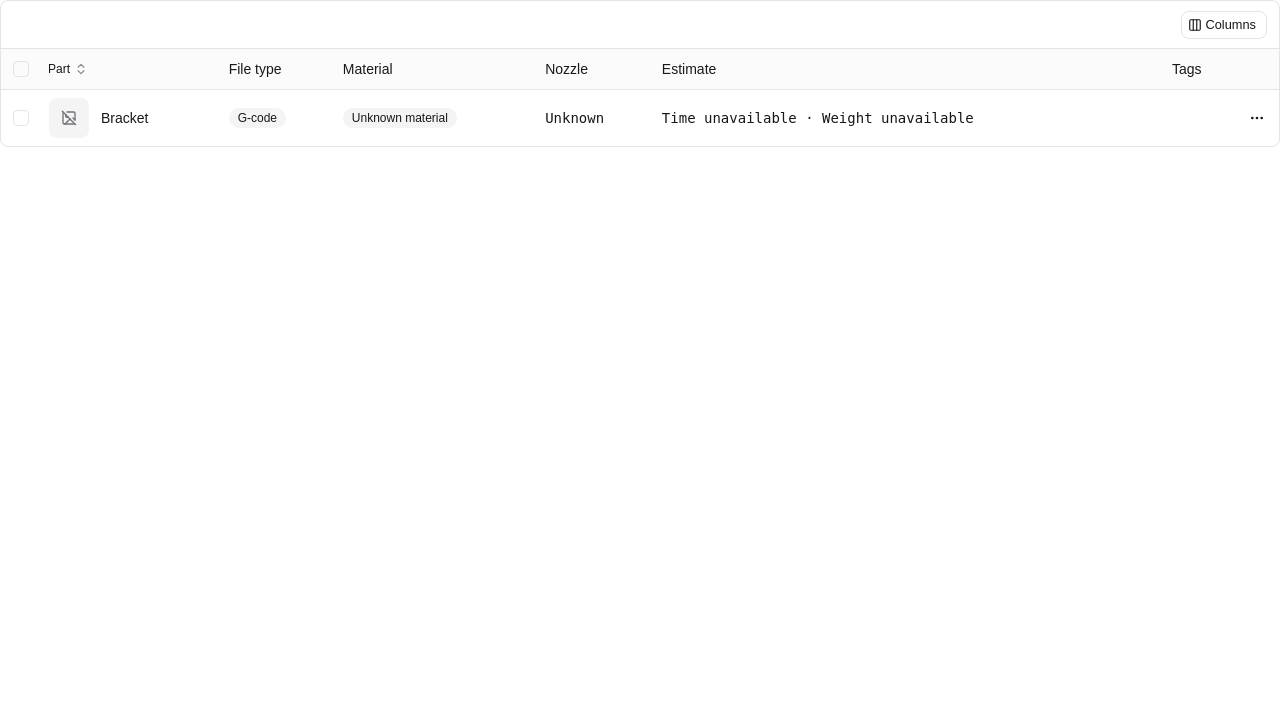
Test case: PartsTable queue action › shows server errors and preserves the quantity for retry
Click the button named "Actions for Bracket": {"x": 1257, "y": 118} [1243,104,1271,132]
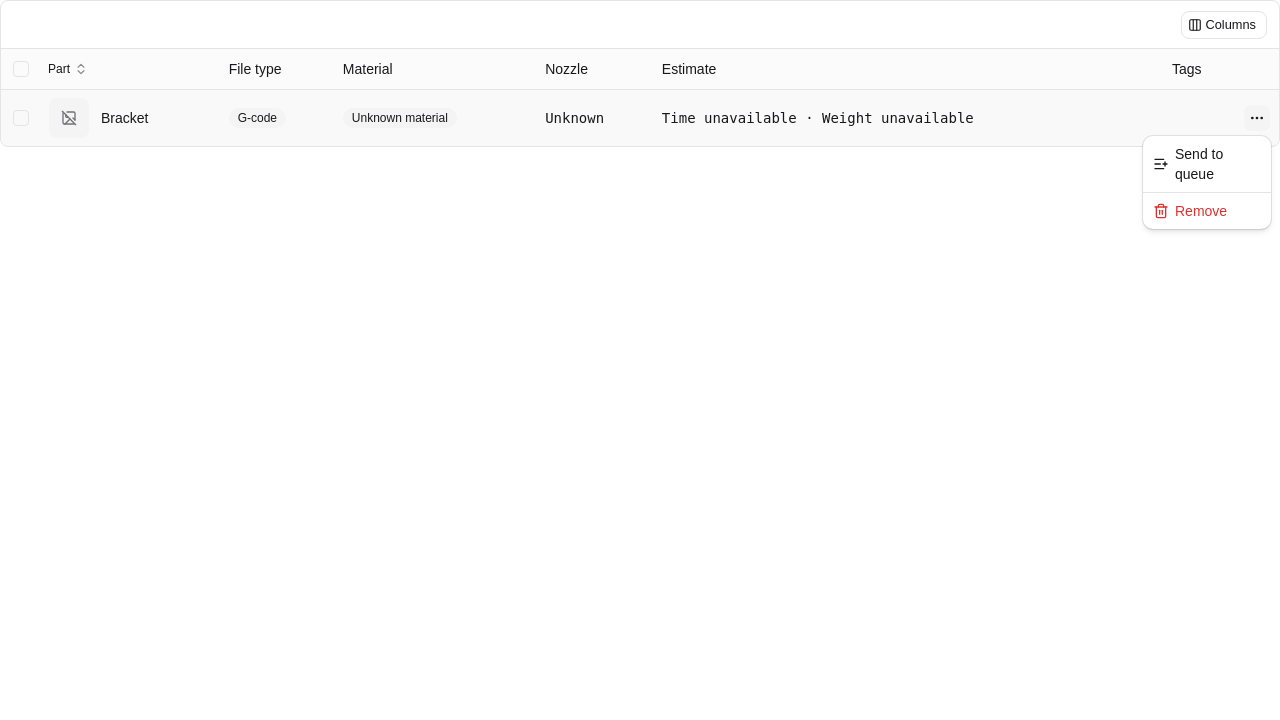
Click the menu item "Send to queue": {"x": 1188, "y": 164} [1153,146,1223,182]
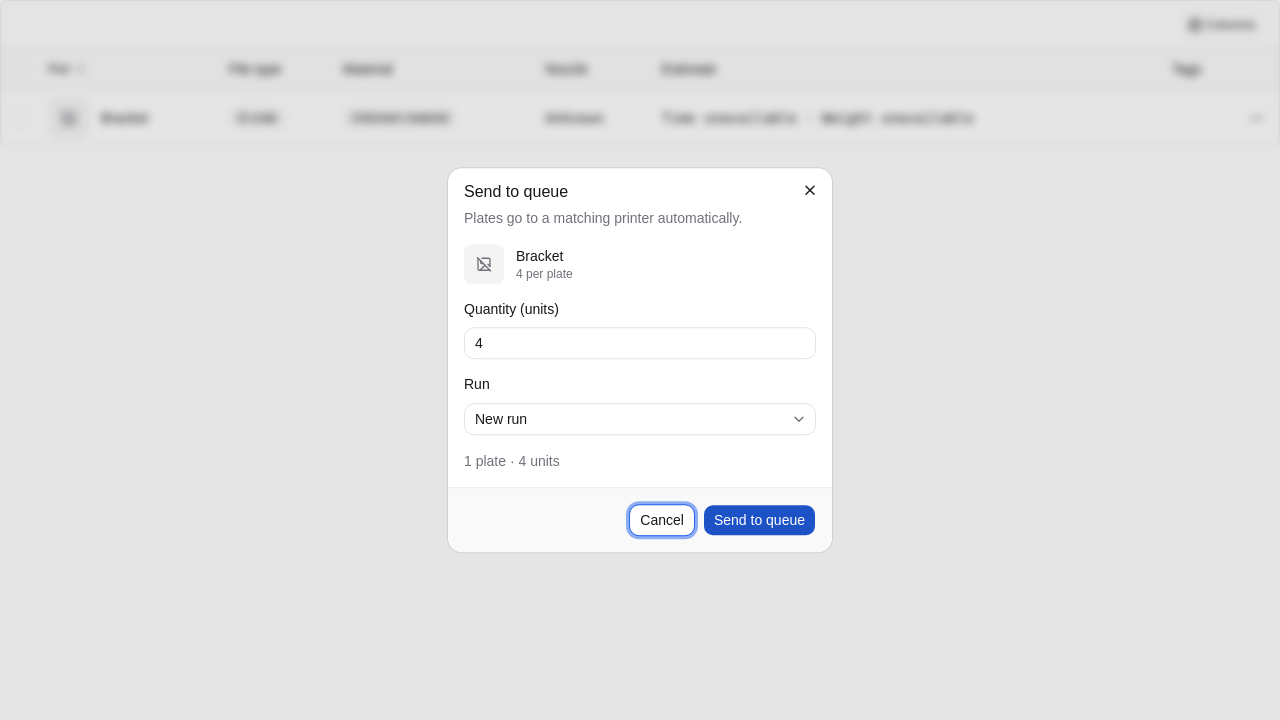
Replace the text in the number field labelled "Quantity (units)" with "9": {"x": 640, "y": 344} [464,328,816,360]
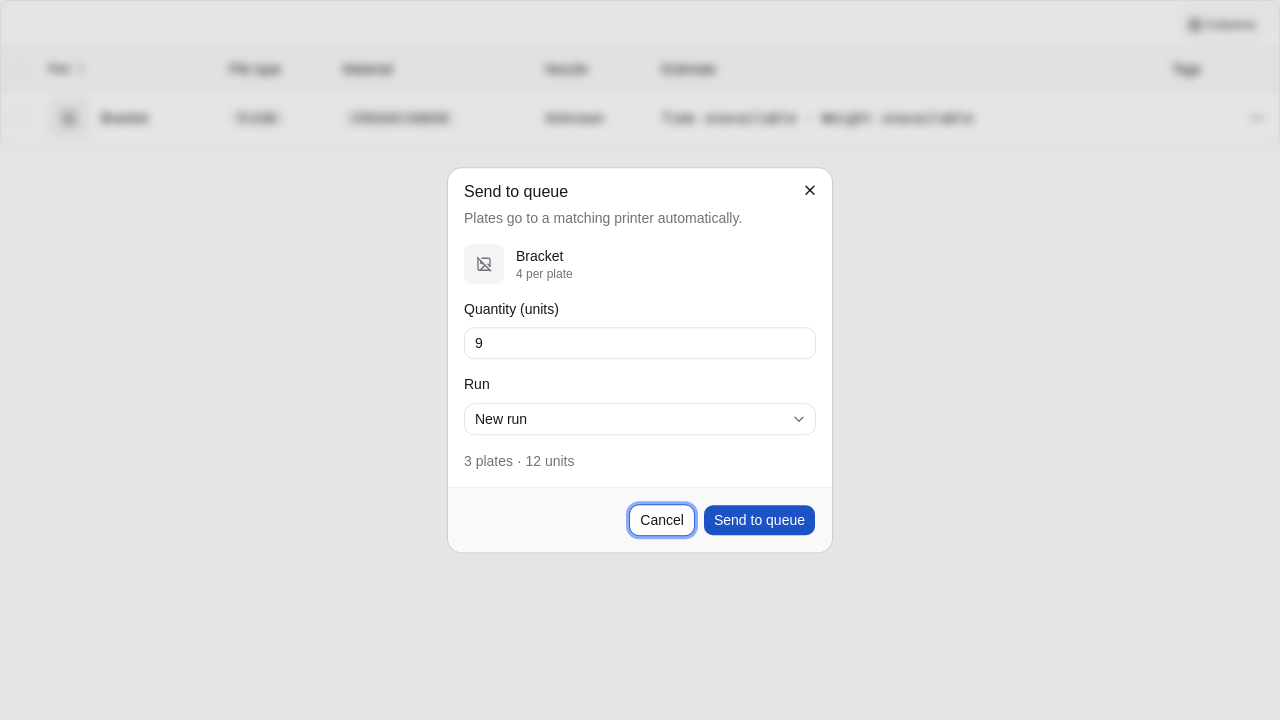
Click the button "Send to queue": {"x": 759, "y": 520} [703,504,816,536]
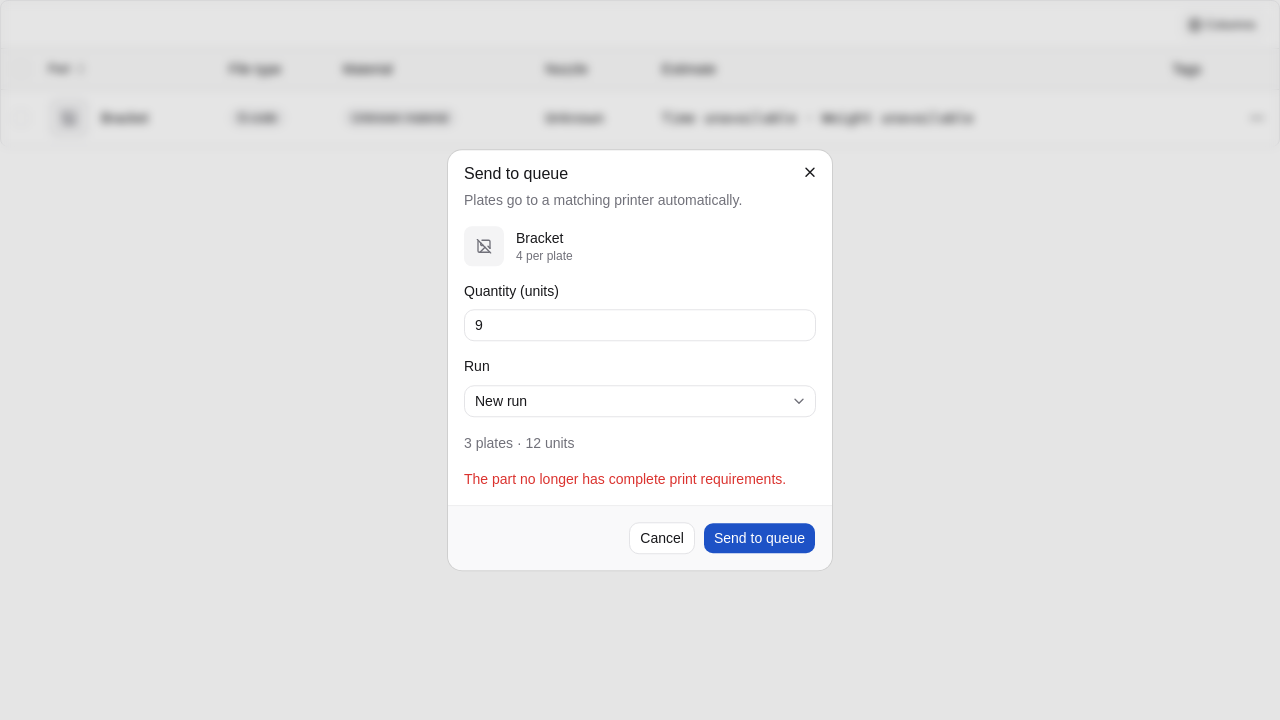
Now the message reads "The part no longer has complete print requirements.", box [464,471,786,487]
